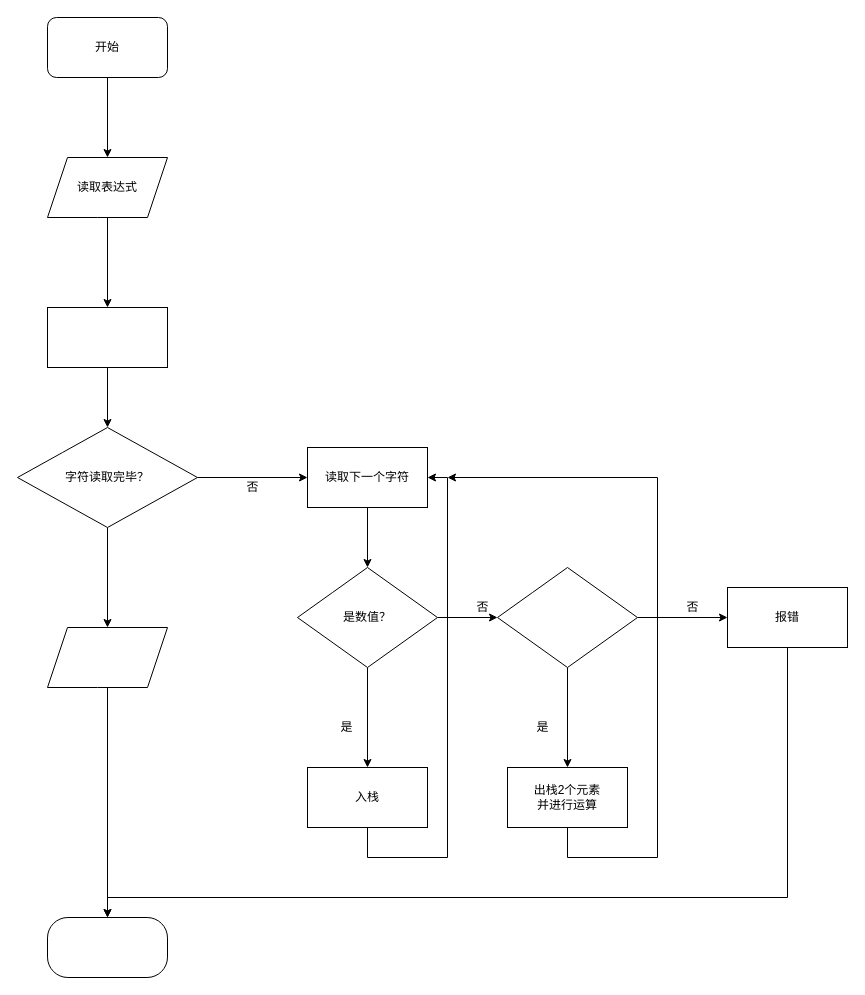
Image size: 865x995. Some labels were removed from this diagram. The shapes that lost their labels are listed below. From the top down, each one's centre as x and y in pixels, then its label:
At [107,337]: "依次读取字符".
At [567,617]: "是运算符？".
At [107,657]: "输出字符串".
At [107,947]: "结束".
